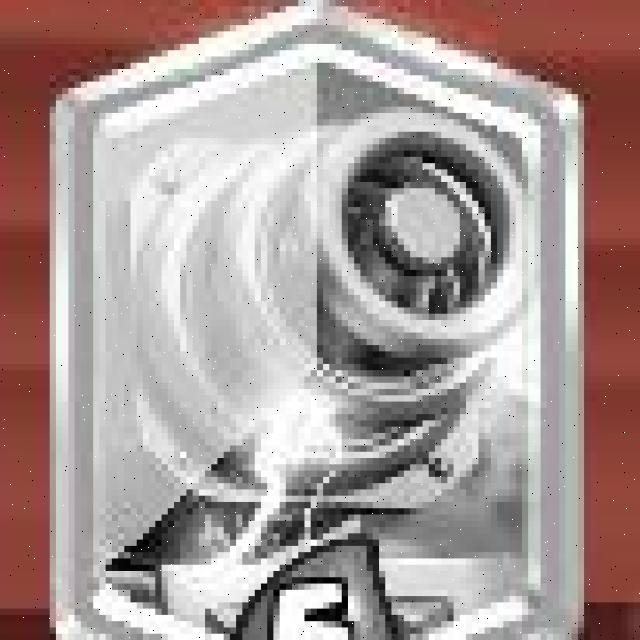Sparky: (41, 0, 592, 640)
